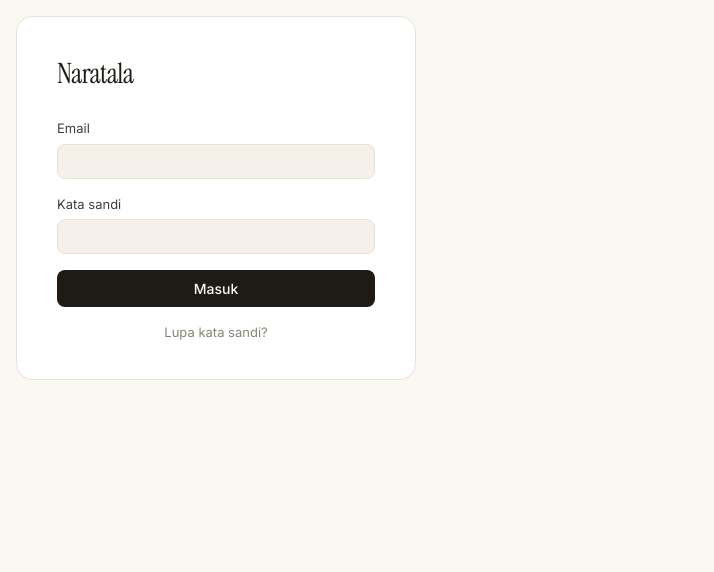
Test: LoginPage › invalid credentials → toast appears
Type "admin@naratala.local" into the field labelled "Email" at (216, 161), box [57,144,375,179]
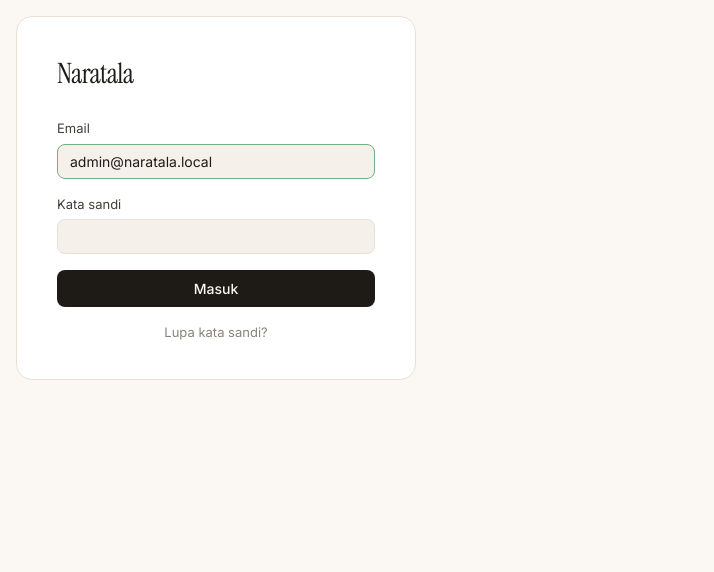
Type "wrong-password" into the password field labelled "Kata sandi" at (216, 237), box [57,219,375,254]
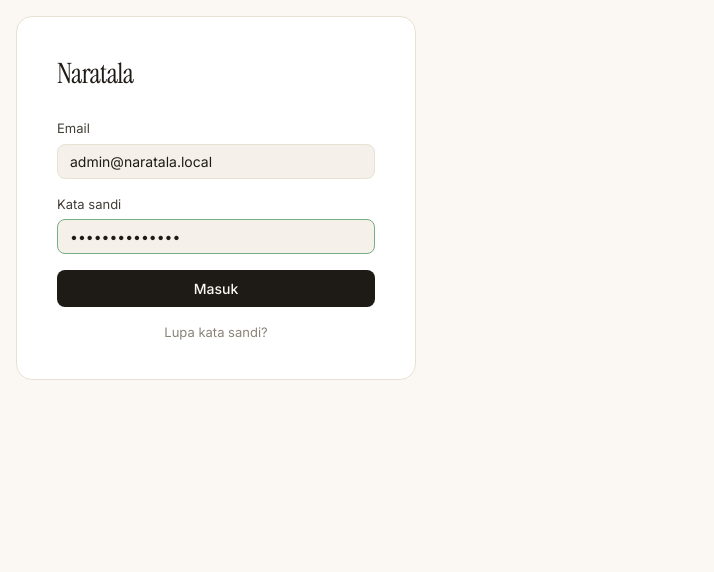
Click the button "Masuk" at (216, 289), box [57,270,375,307]
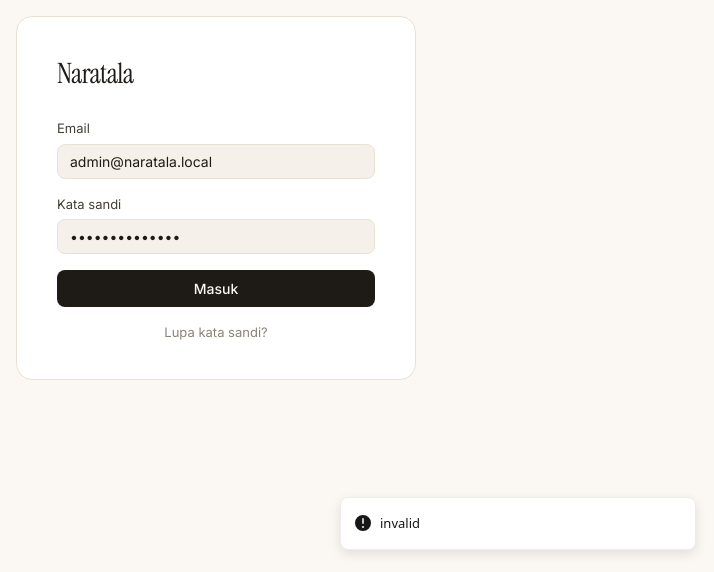
Check: the text "invalid" is shown, box [380,514,420,533]
